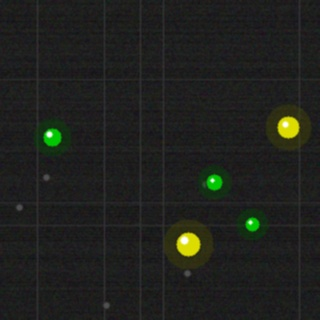green_normal: (41, 126, 63, 148), (204, 172, 224, 192), (243, 215, 261, 233)
yellow_warning: (174, 230, 202, 258), (275, 114, 301, 140)
